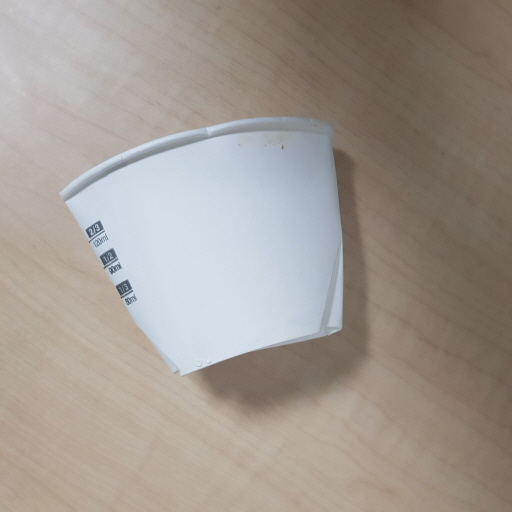Paper_1: (58, 115, 352, 377)
